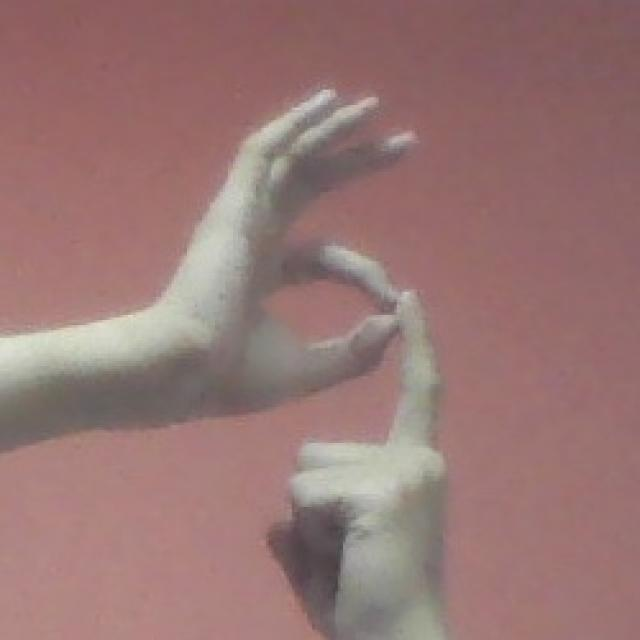Alphabet-P: (144, 70, 491, 640)
